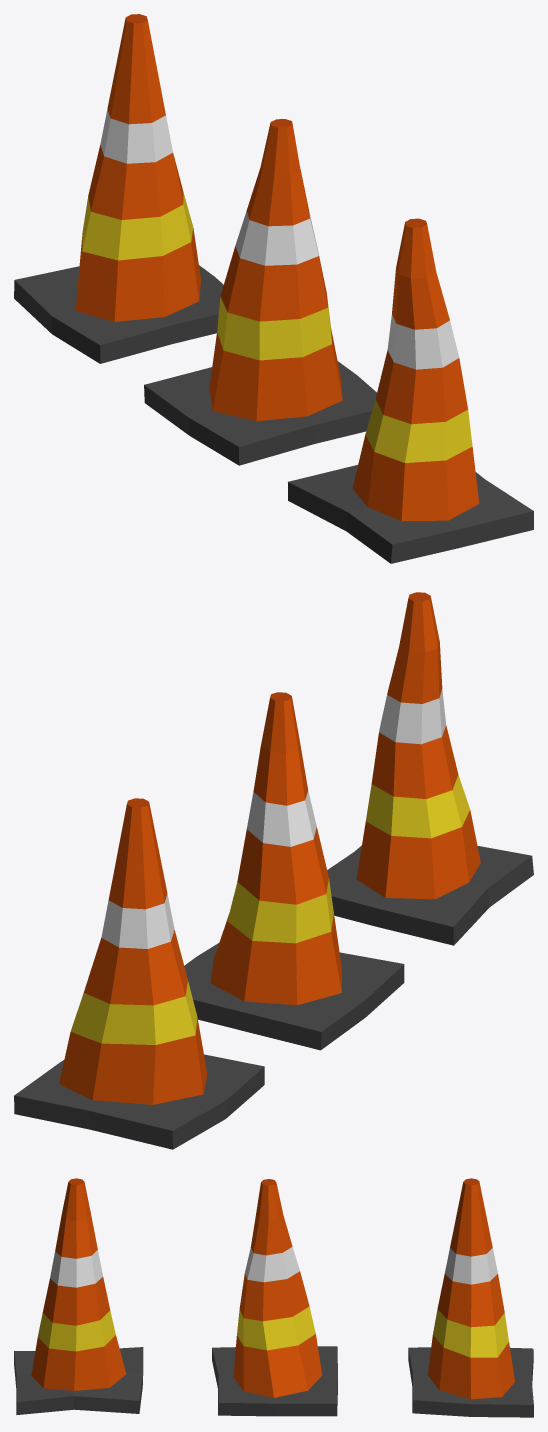
The model's file is pembatas jalan cone.fbx.
3 views of the same model, one above another, from view 1: azimuth 30°, elevation 25°; view 2: azimuth 150°, elevation 25°; view 3: azimuth 270°, elevation 25° (orthographic). The views are drawn at different scales.
Visible parts, largest first — view 1: Cylinder.001, Cylinder.002, Cylinder; view 2: Cylinder.002, Cylinder.001, Cylinder; view 3: Cylinder.001, Cylinder.002, Cylinder.
Boxes of the visible parts, x1,y1,x2,y2 form: Cylinder.001: (144, 119, 376, 465); Cylinder.002: (14, 14, 223, 363); Cylinder: (288, 218, 533, 563); Cylinder.002: (14, 798, 264, 1149); Cylinder.001: (184, 692, 404, 1050); Cylinder: (327, 592, 533, 945); Cylinder.001: (212, 1179, 337, 1416); Cylinder.002: (408, 1178, 533, 1417); Cylinder: (14, 1178, 143, 1414).
Bounding box in the file's own units: 128 × 214 × 484.
